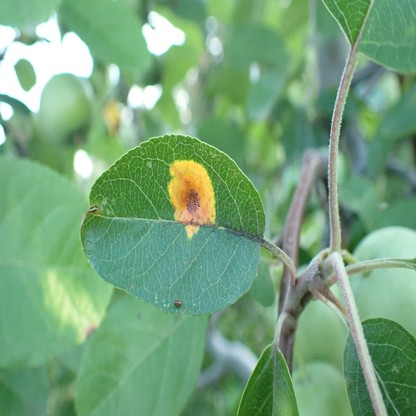rust: (168, 160, 215, 237)
